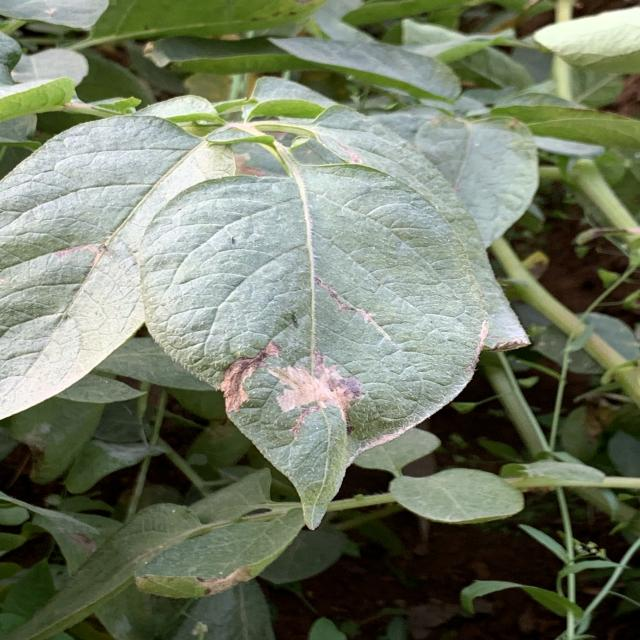lateblight: (267, 350, 363, 435), (220, 341, 280, 412)
